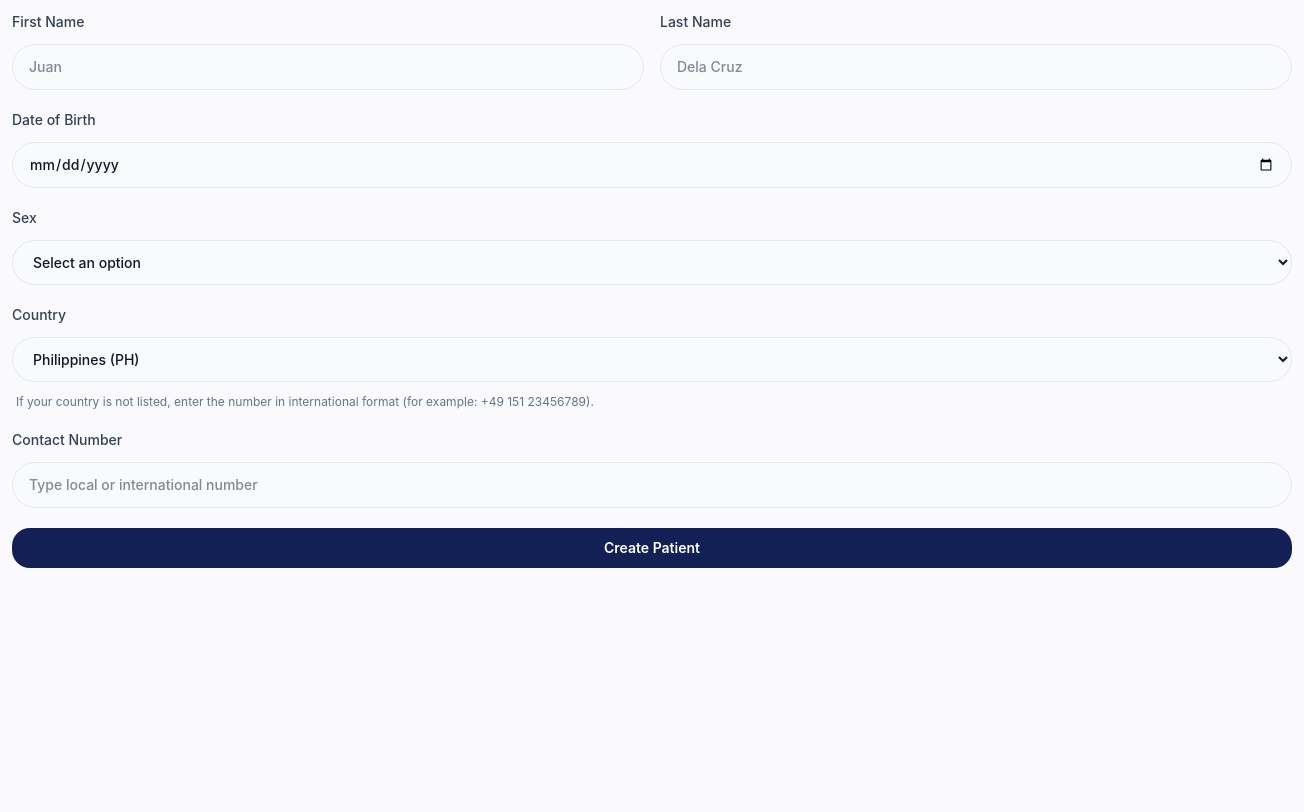
Scenario: PatientForm validation feedback › shows a detail message (e.g. 403) in the error banner
Type "Regression" into the field with id "first_name".
click(328, 67); type("Regression")  # box top-left (12, 44), bottom-right (644, 90)
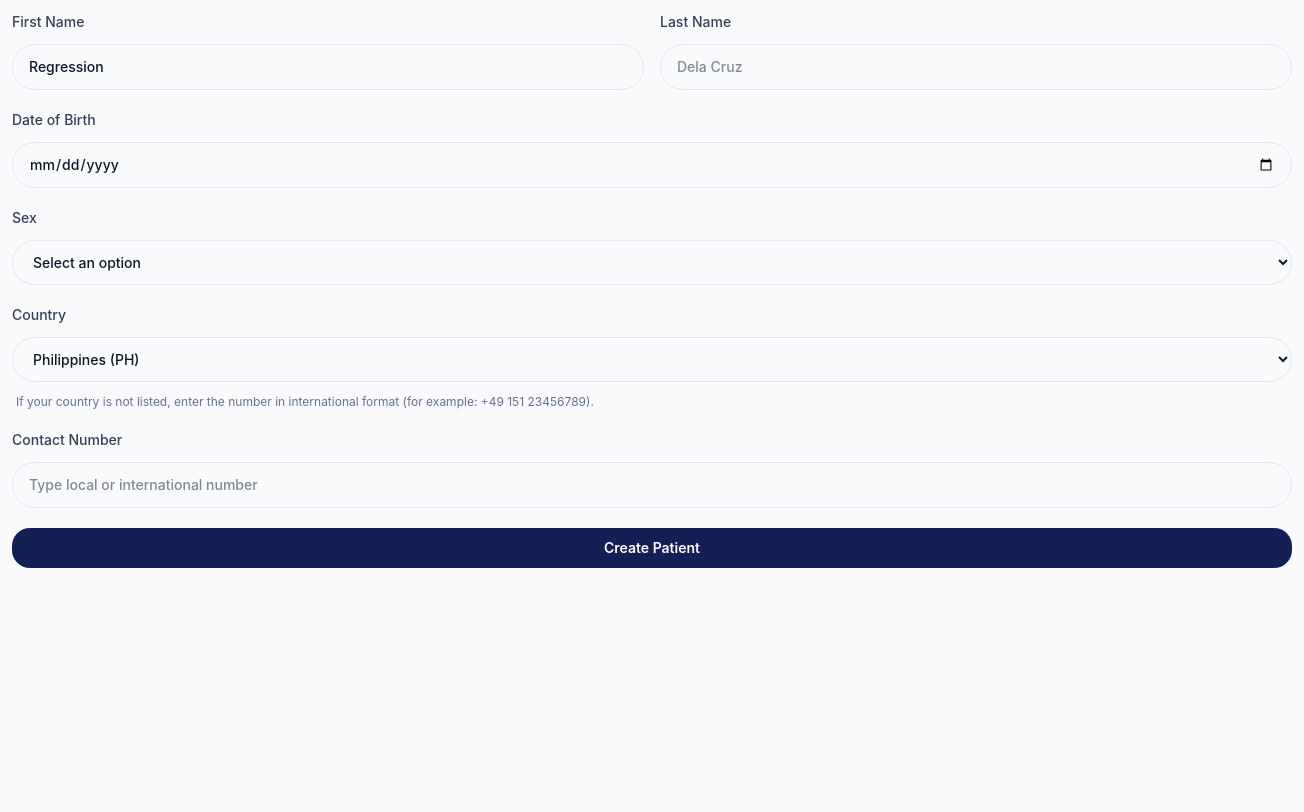
Type "Tester" into the field with id "last_name".
click(976, 67); type("Tester")  # box top-left (660, 44), bottom-right (1292, 90)
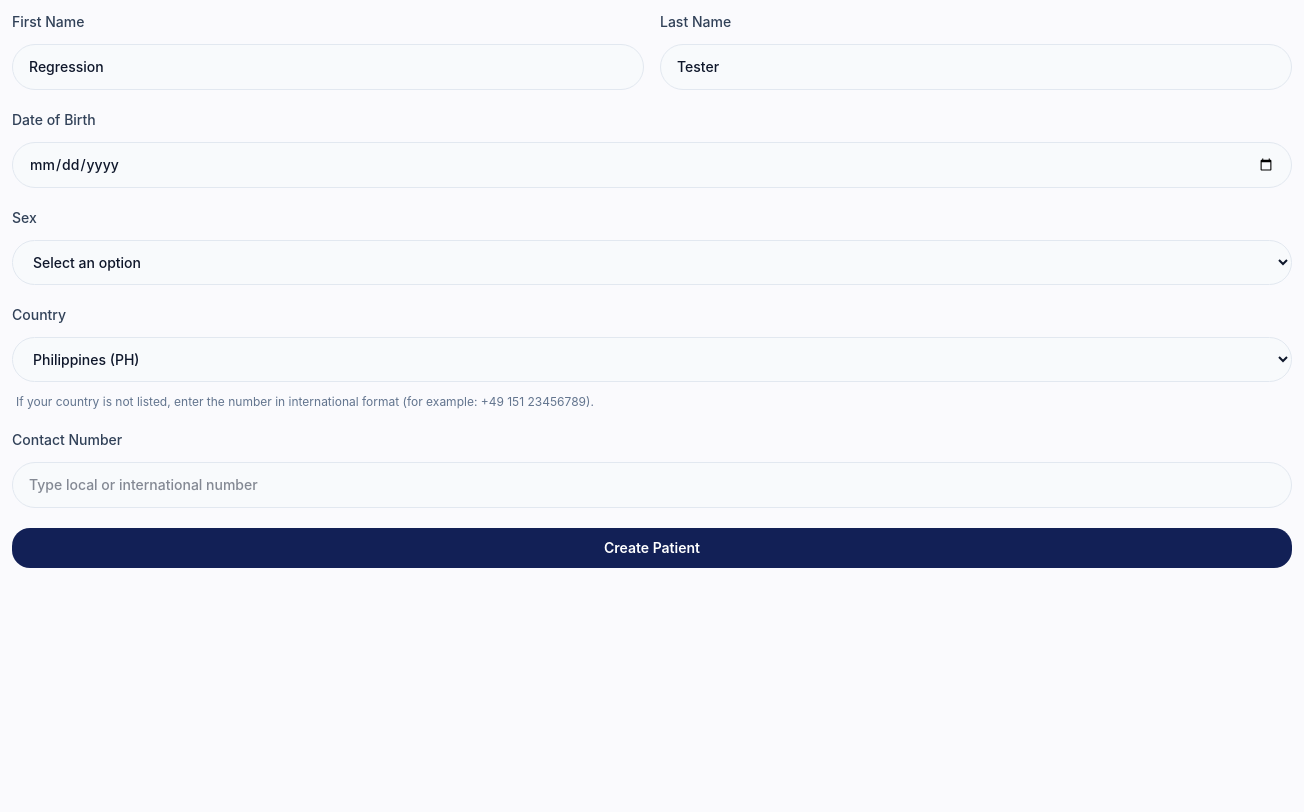
Type "1990-05-05" into the date field with id "date_of_birth".
click(652, 165); type("1990-05-05")  # box top-left (12, 142), bottom-right (1292, 188)
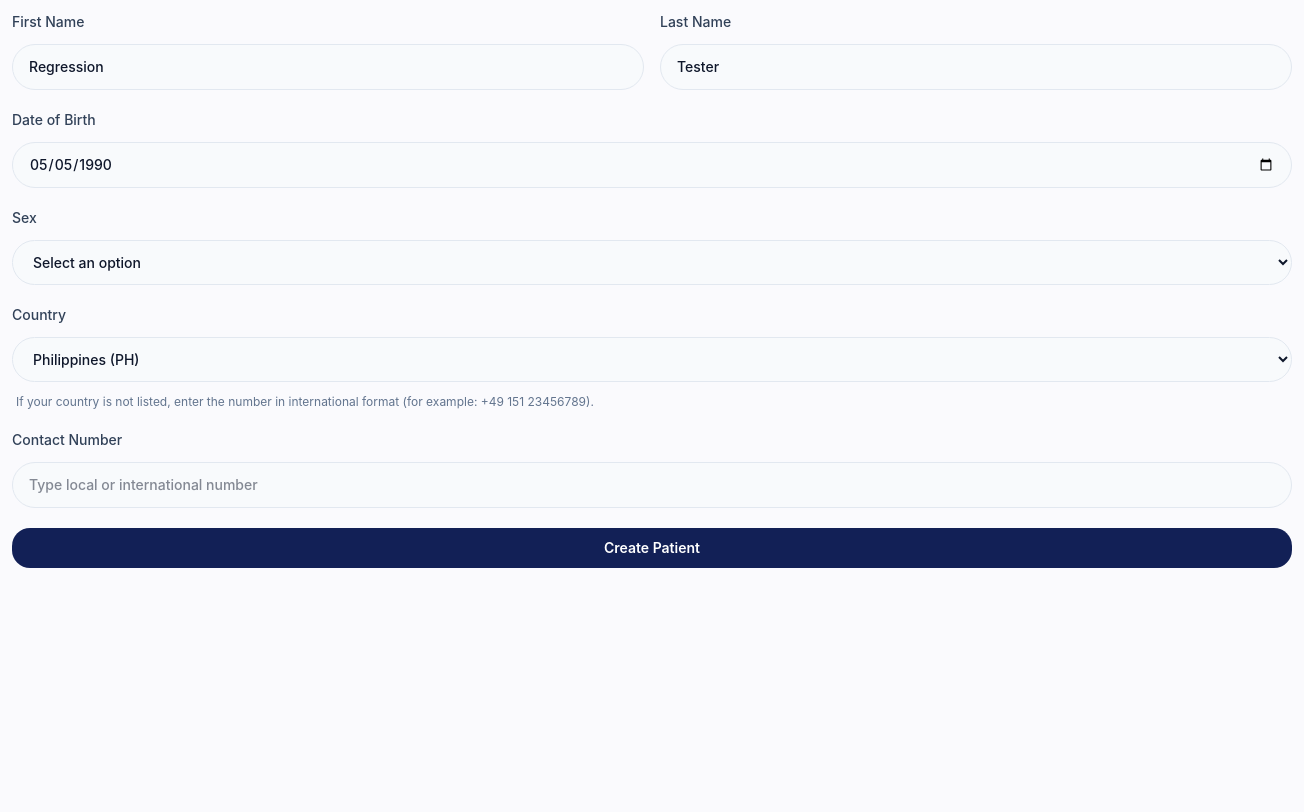
Select "Male" in the dropdown with id "sex" at (652, 262), box top-left (12, 240), bottom-right (1292, 285)
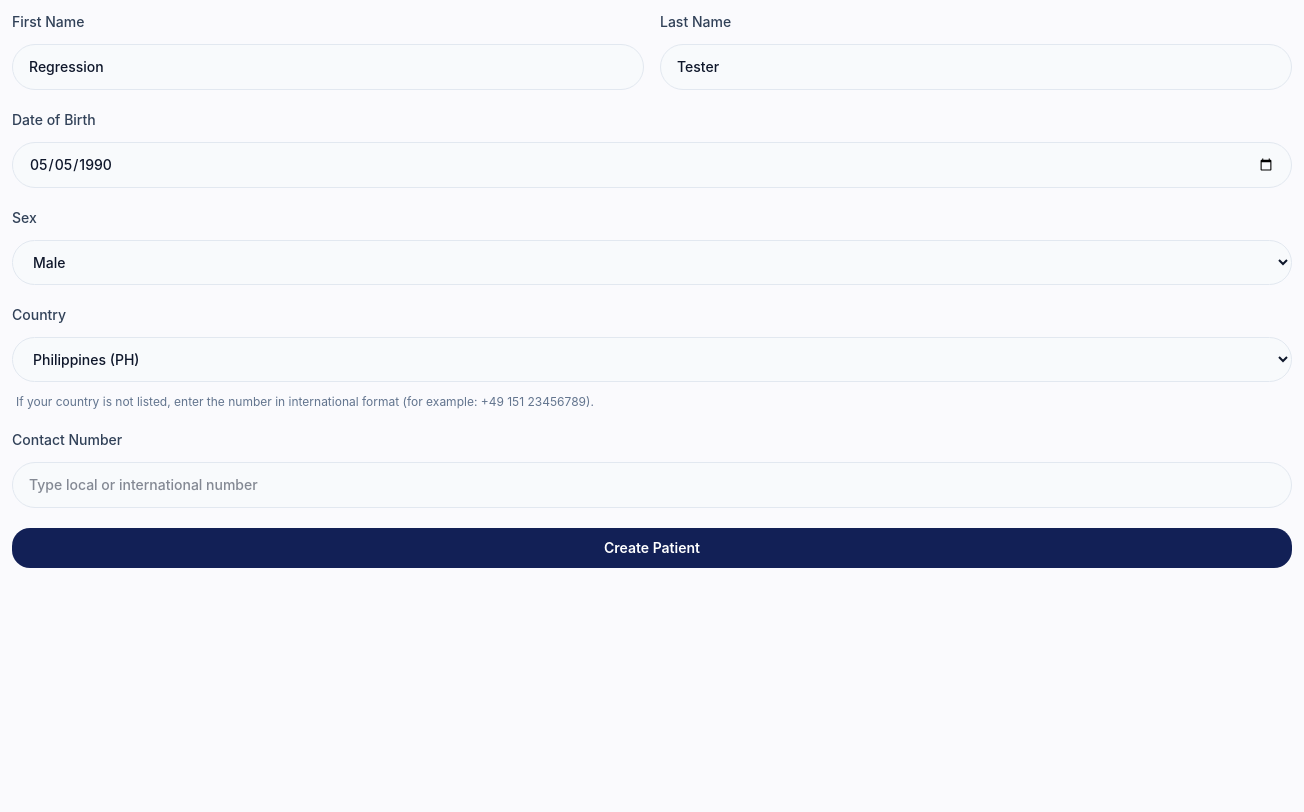
Type "09171234567" into the field with id "contact_number".
click(652, 485); type("09171234567")  # box top-left (12, 462), bottom-right (1292, 508)
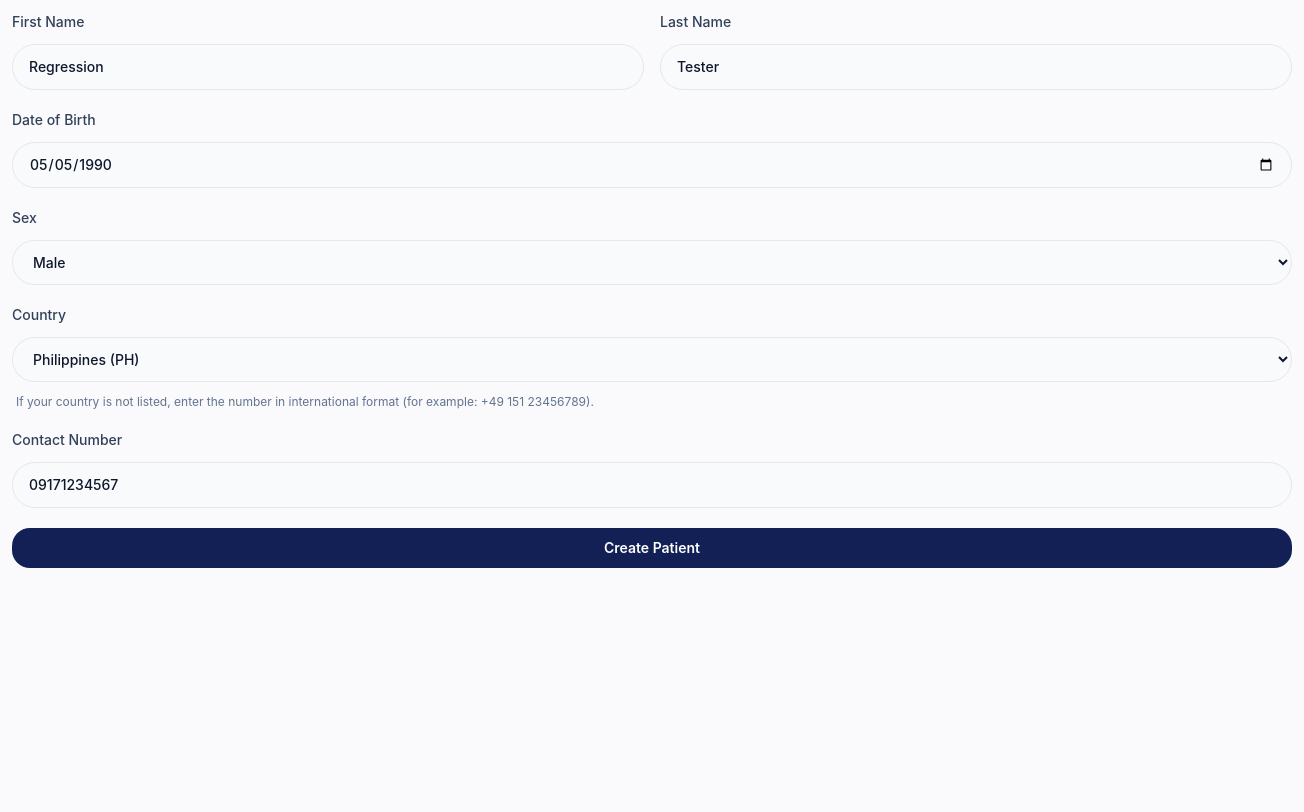
Submit the form
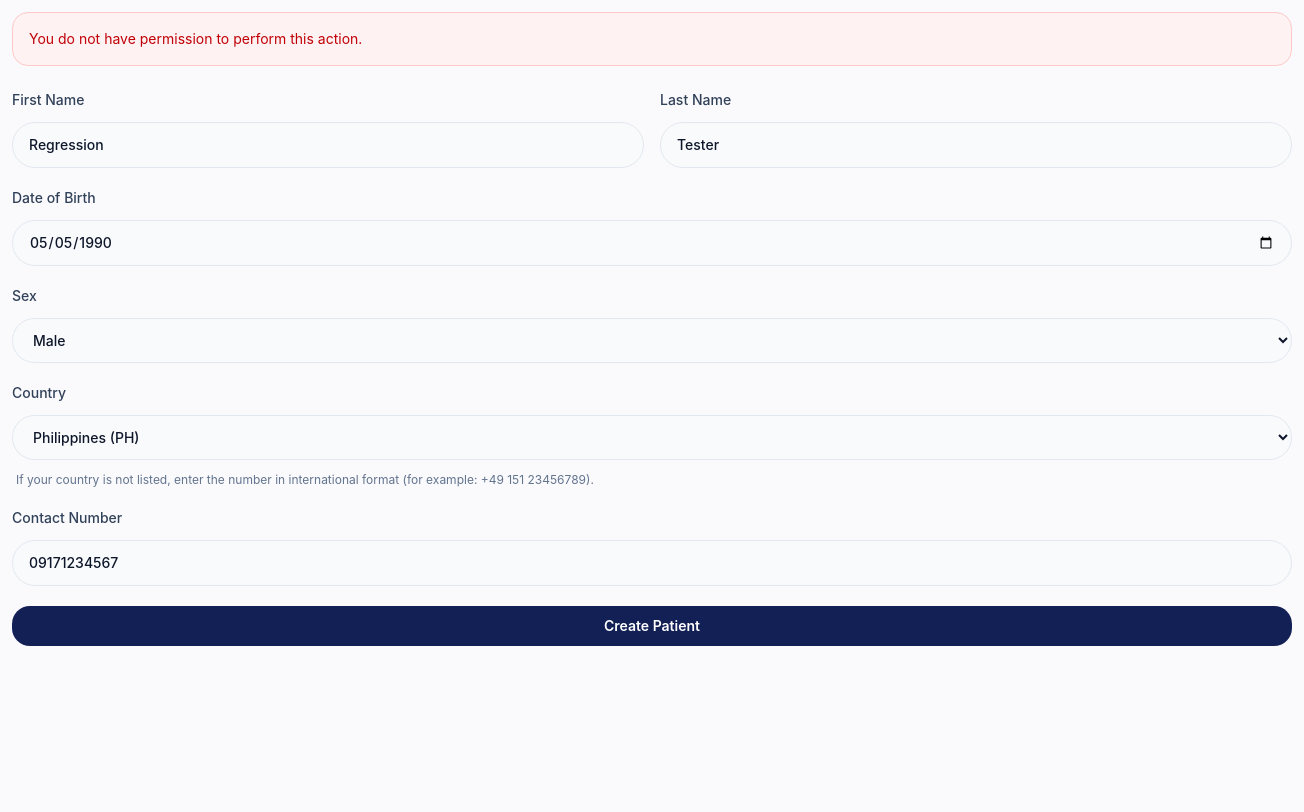
Now the text "You do not have permission to perform this action." is shown, box top-left (12, 12), bottom-right (1292, 66)
